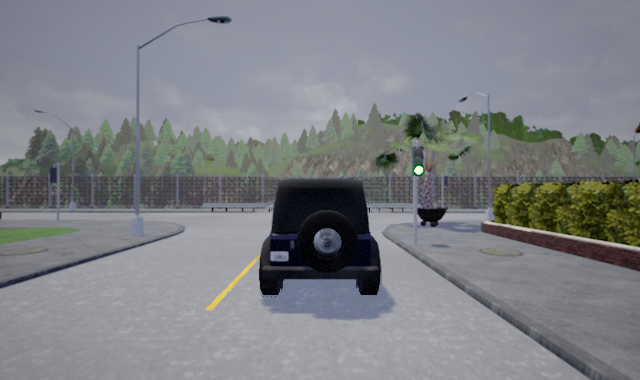vehicle: (257, 176, 381, 297)
